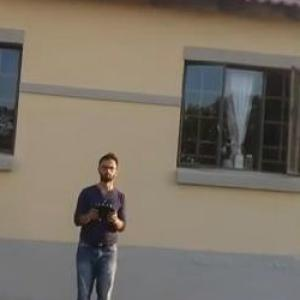follow: (67, 149, 132, 299)
